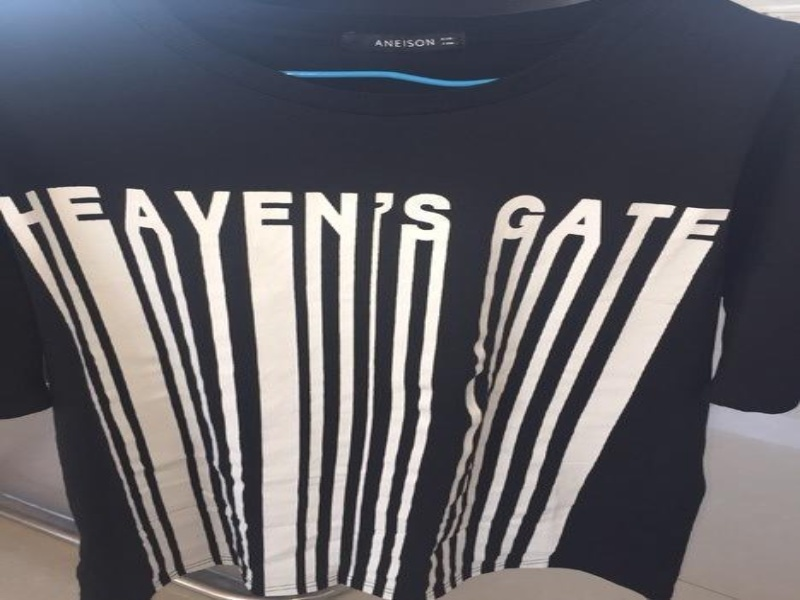short_sleeved_shirt: (0, 0, 798, 599)
